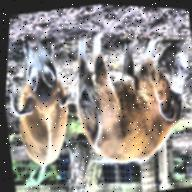boar: (55, 10, 192, 177), (1, 28, 89, 182)
